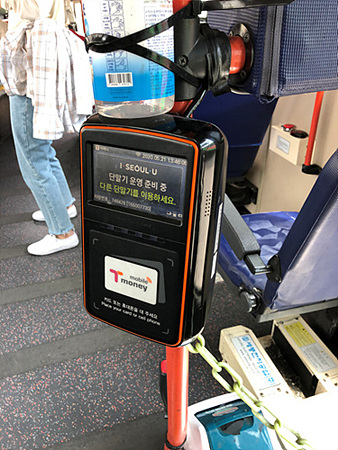terminal: (80, 114, 212, 335)
